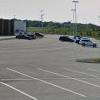Car: (55, 29, 98, 48)
